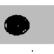correct: (4, 14, 31, 36)
